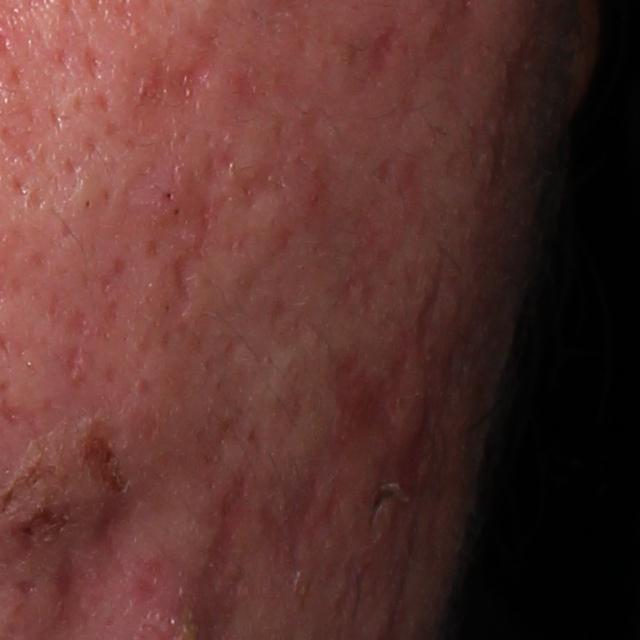atrophic_scar: (247, 246, 439, 583), (120, 43, 219, 216), (161, 125, 245, 328), (396, 400, 448, 603), (50, 299, 107, 393), (361, 31, 395, 70)
